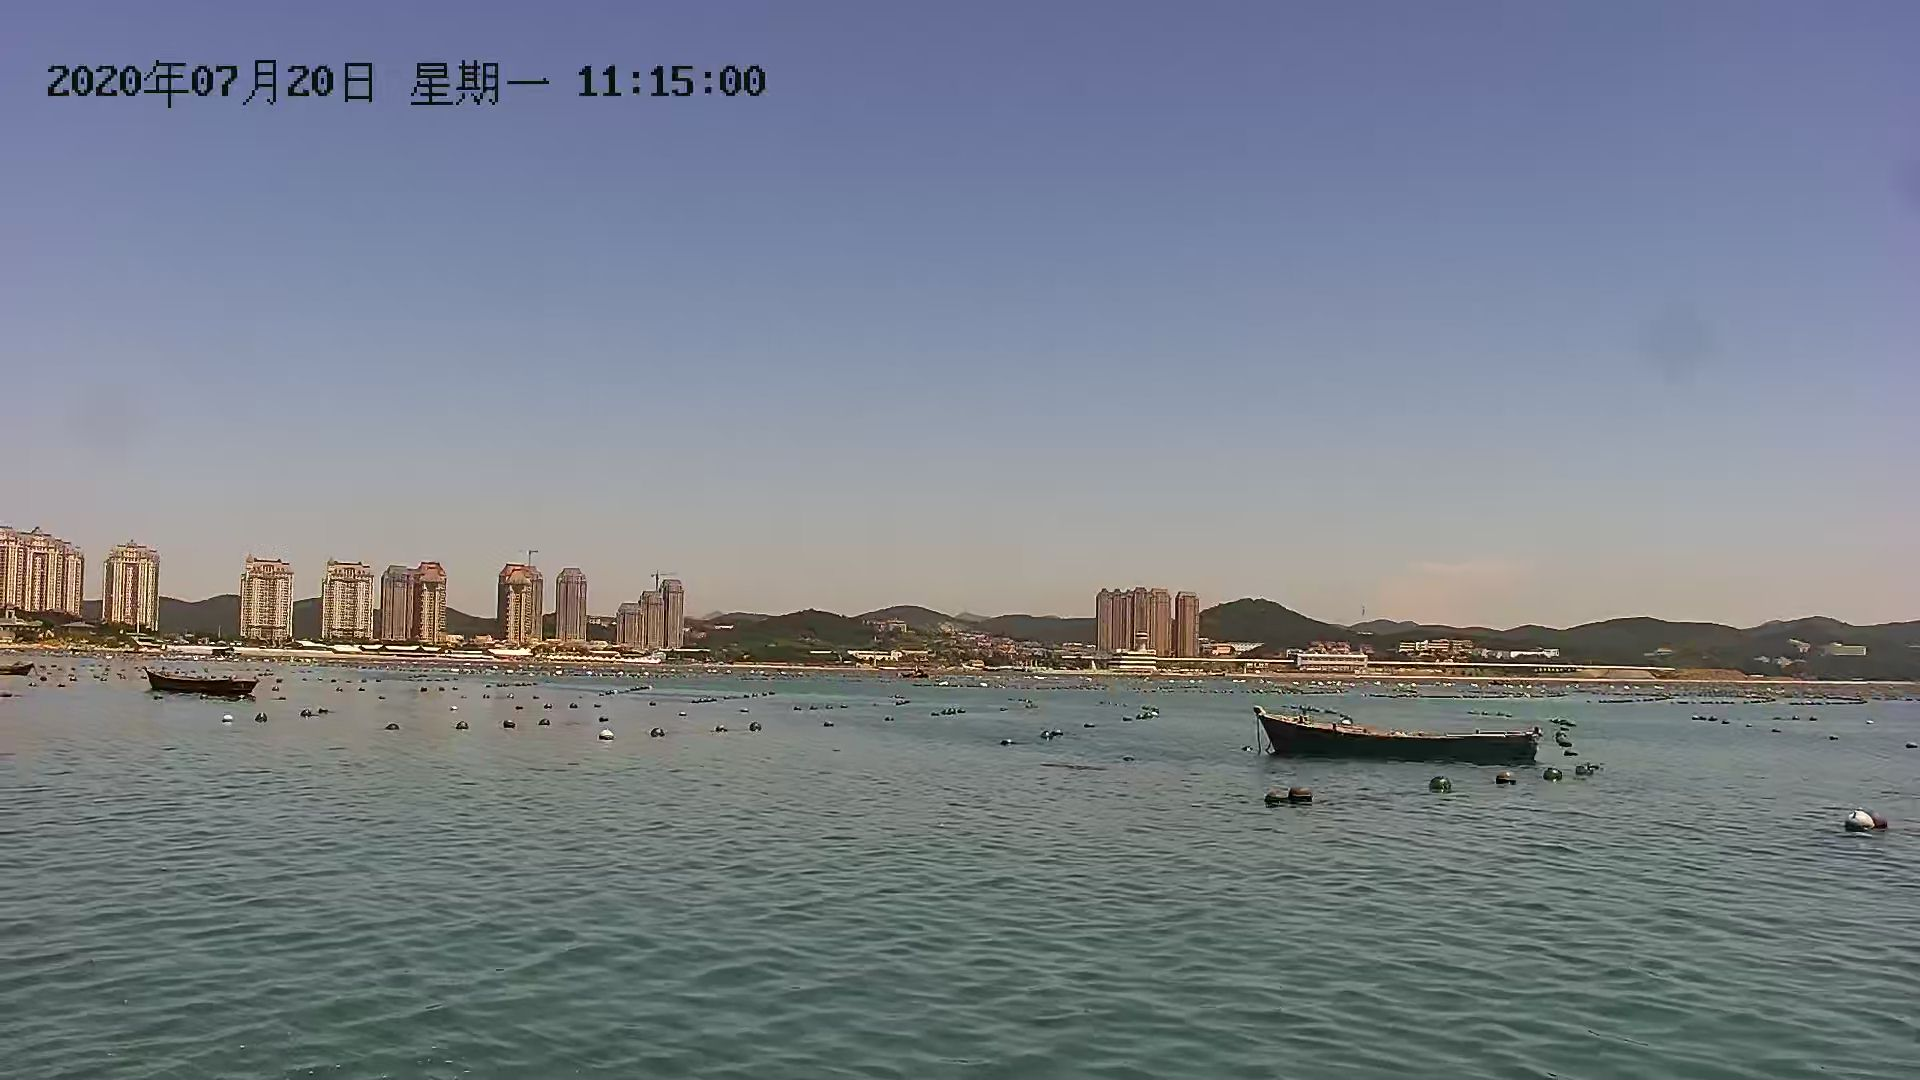ball: (1836, 807, 1878, 840), (1491, 764, 1524, 798), (1424, 767, 1453, 803), (1267, 785, 1287, 818), (1288, 785, 1313, 806), (596, 723, 616, 744)
boat: (1250, 698, 1555, 774), (137, 665, 255, 702)
